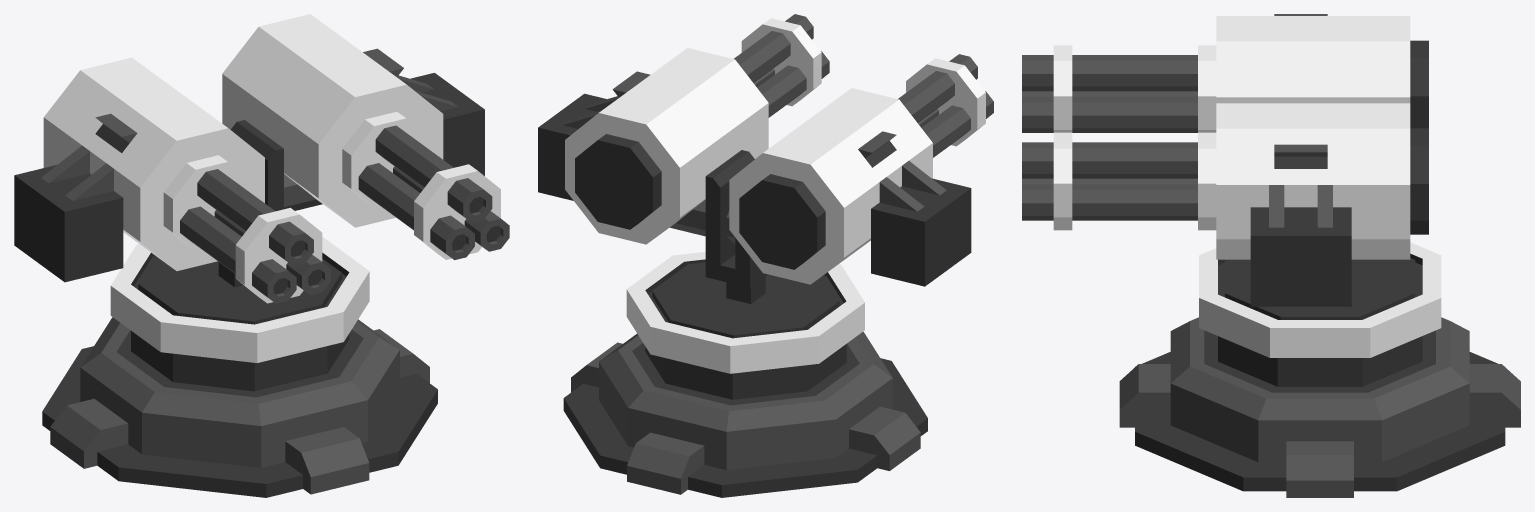
File: Minigun_2.fbx
The picture shows the model from 3 angles, left to right: view 1: azimuth 30°, elevation 25°; view 2: azimuth 150°, elevation 25°; view 3: azimuth 270°, elevation 25°; orthographic projection. The views are drawn at different scales.
Visible parts, largest first — view 1: Body_Mesh, Base_Mesh, Upper_Mesh, Gun_1_Mesh, Gun_2_Mesh; view 2: Body_Mesh, Base_Mesh, Upper_Mesh, Gun_2_Mesh, Gun_1_Mesh; view 3: Body_Mesh, Base_Mesh, Upper_Mesh, Gun_2_Mesh, Gun_1_Mesh.
Boxes of the visible parts, x1,y1,x2,y2 form: Body_Mesh: (14,14,484,282); Base_Mesh: (42,317,437,497); Upper_Mesh: (110,120,369,391); Gun_1_Mesh: (163,155,330,303); Gun_2_Mesh: (342,111,509,260); Body_Mesh: (538,48,971,286); Base_Mesh: (563,331,927,497); Upper_Mesh: (626,150,864,399); Gun_2_Mesh: (734,14,829,117); Gun_1_Mesh: (898,54,993,157); Body_Mesh: (1216,14,1428,306); Base_Mesh: (1119,317,1520,497); Upper_Mesh: (1199,242,1441,386); Gun_2_Mesh: (1022,132,1216,230); Gun_1_Mesh: (1022,45,1216,132).
Bounding box in the file's own units: 1.58 × 1.22 × 1.62.
